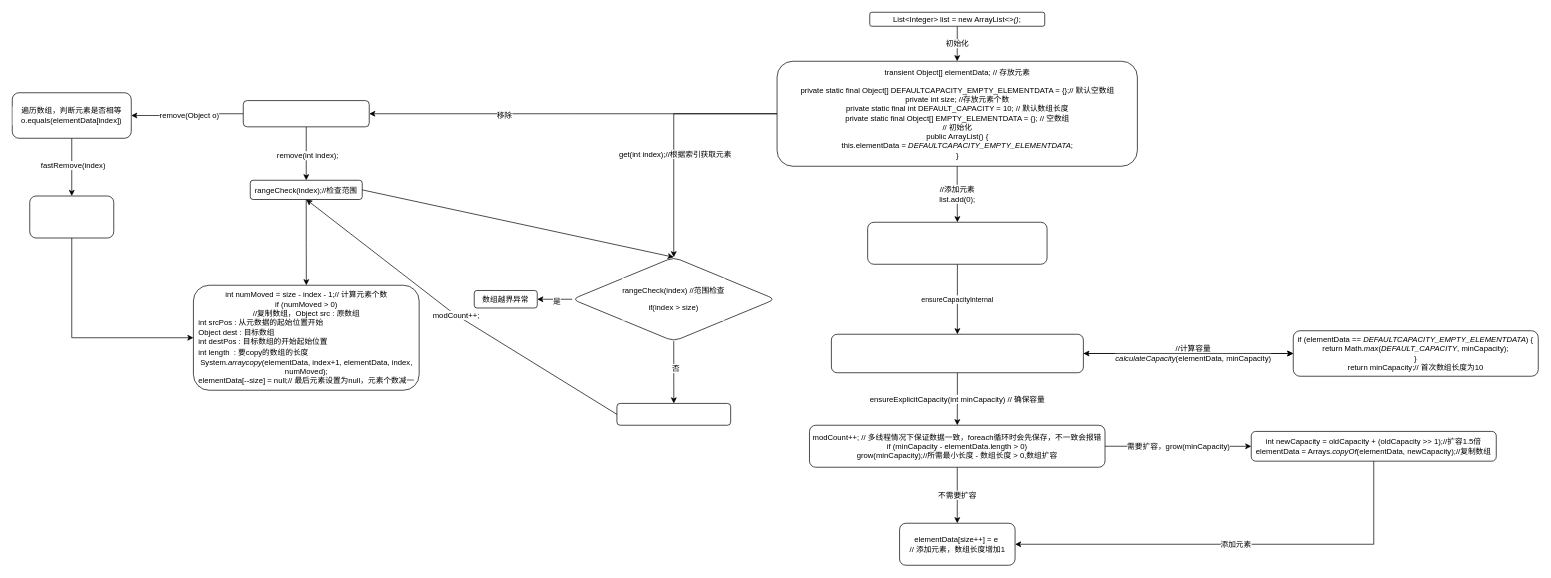
This 1551x578 diagram has some shape labels left out. Each missing label, with the centre of its shape:
"elementData(index)//获取元素 return ( E ) elementData [index];" belongs at point (673, 414).
"ensureCapacityInternal(size + 1); // 判断容量" belongs at point (957, 243).
"ensureExplicitCapacity( calculateCapacity ( elementData , minCapacity)) ;" belongs at point (957, 353).
"modCount++;" belongs at point (71, 216).
"remove (Object o);根据元素移除 remove ( int index);//更具索引移除" belongs at point (306, 113).
